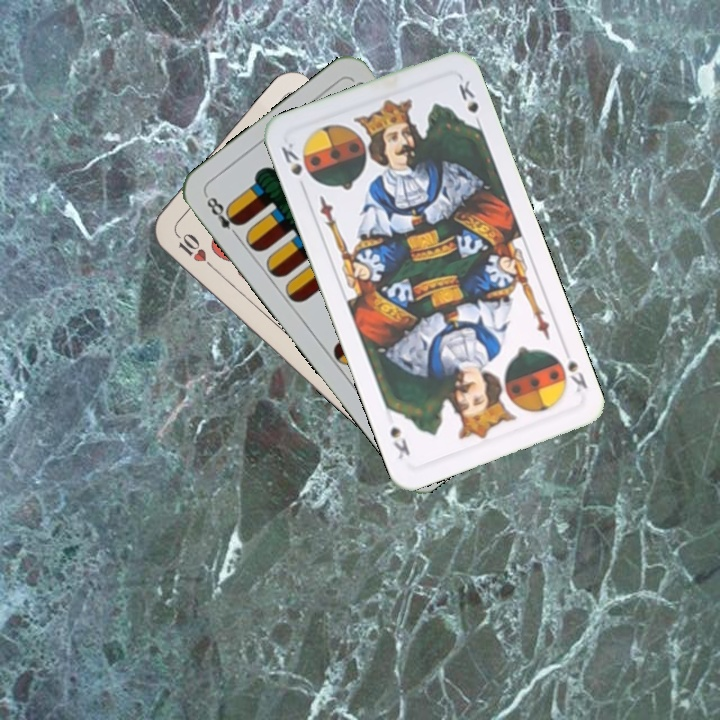E8: (202, 193, 245, 242)
H10: (170, 227, 218, 273)
SK: (550, 349, 590, 396), (277, 138, 305, 179)
